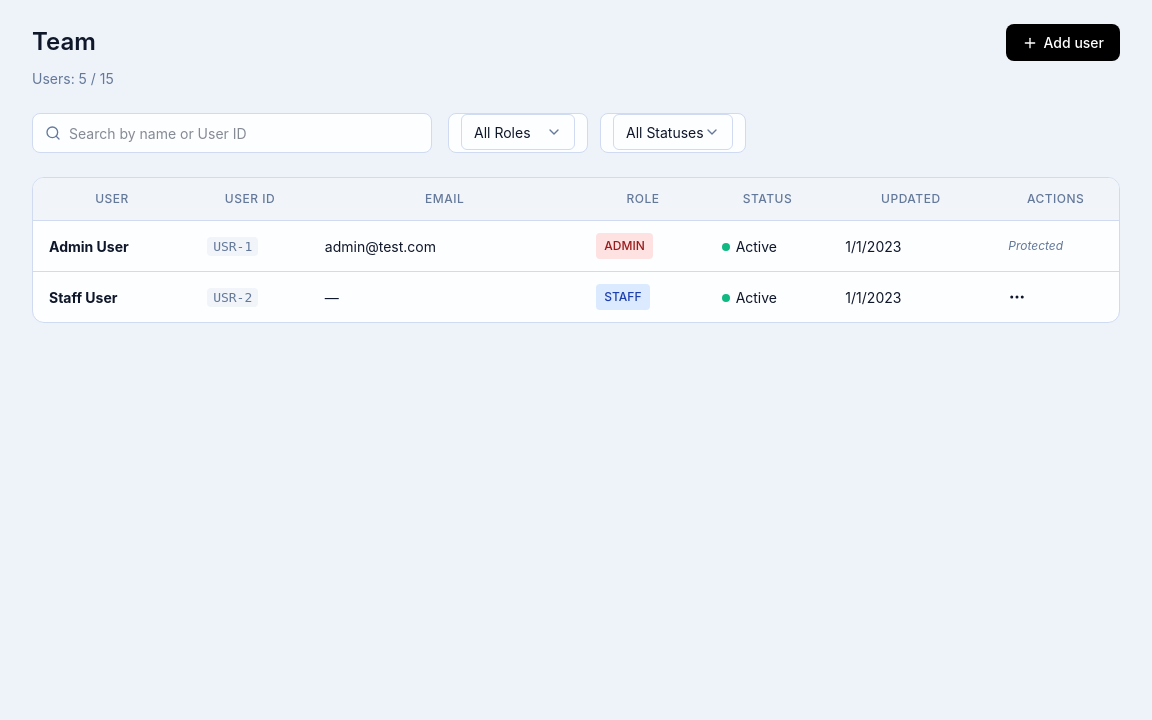
Test case: UsersPage › Role change does not offer ADMIN
The width and height of the screenshot is (1152, 720).
// Open action menu for a STAFF member
Click the button titled "Manage Member": (1017, 297) [1008,288,1026,306]
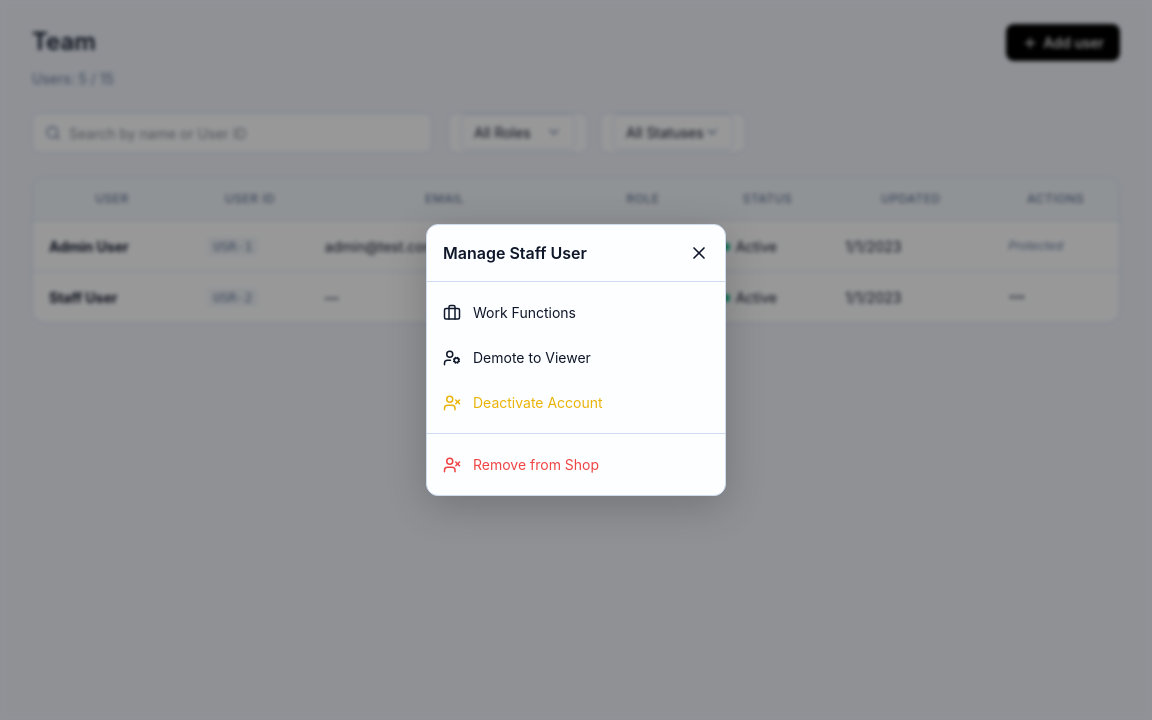
Check: the text "Demote to Viewer" is shown, box [473,347,591,368]
